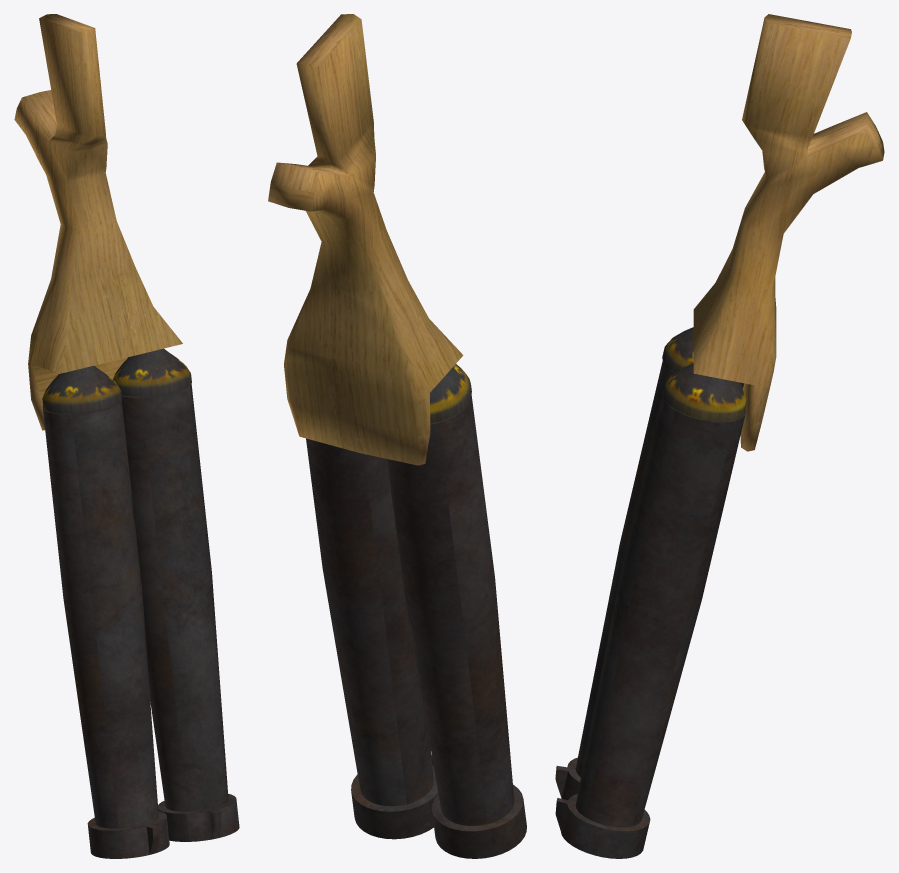
Rendered from shotgun_000034.obj.
The picture shows the model from 3 angles, left to right: view 1: azimuth 30°, elevation 25°; view 2: azimuth 150°, elevation 25°; view 3: azimuth 270°, elevation 25°; orthographic projection. The views are drawn at different scales.
Visible parts, largest first — view 1: Cylinder, Cylinder.001_Cylinder.002; view 2: Cylinder, Cylinder.001_Cylinder.002; view 3: Cylinder, Cylinder.001_Cylinder.002.
Boxes of the visible parts, x1=… form: Cylinder: x1=42, y1=384, x2=239, y2=858; Cylinder.001_Cylinder.002: x1=14, y1=14, x2=191, y2=430; Cylinder: x1=306, y1=396, x2=526, y2=858; Cylinder.001_Cylinder.002: x1=268, y1=14, x2=471, y2=465; Cylinder: x1=555, y1=360, x2=745, y2=858; Cylinder.001_Cylinder.002: x1=662, y1=14, x2=884, y2=451.
Bounding box in the file's own units: 2.01 × 10.54 × 3.87.
2 materials, 2 textured.
